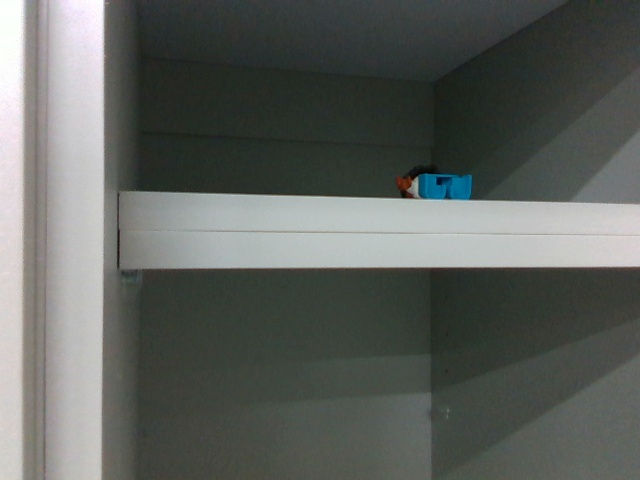people: (397, 162, 483, 207)
